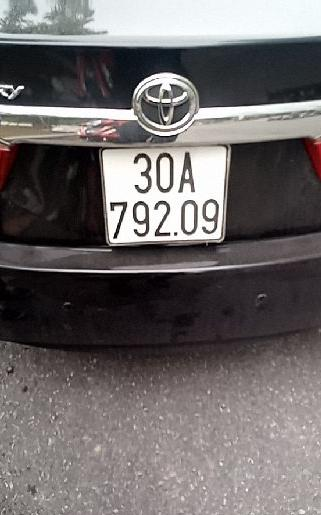Plate-iWeP: (108, 147, 225, 245)
